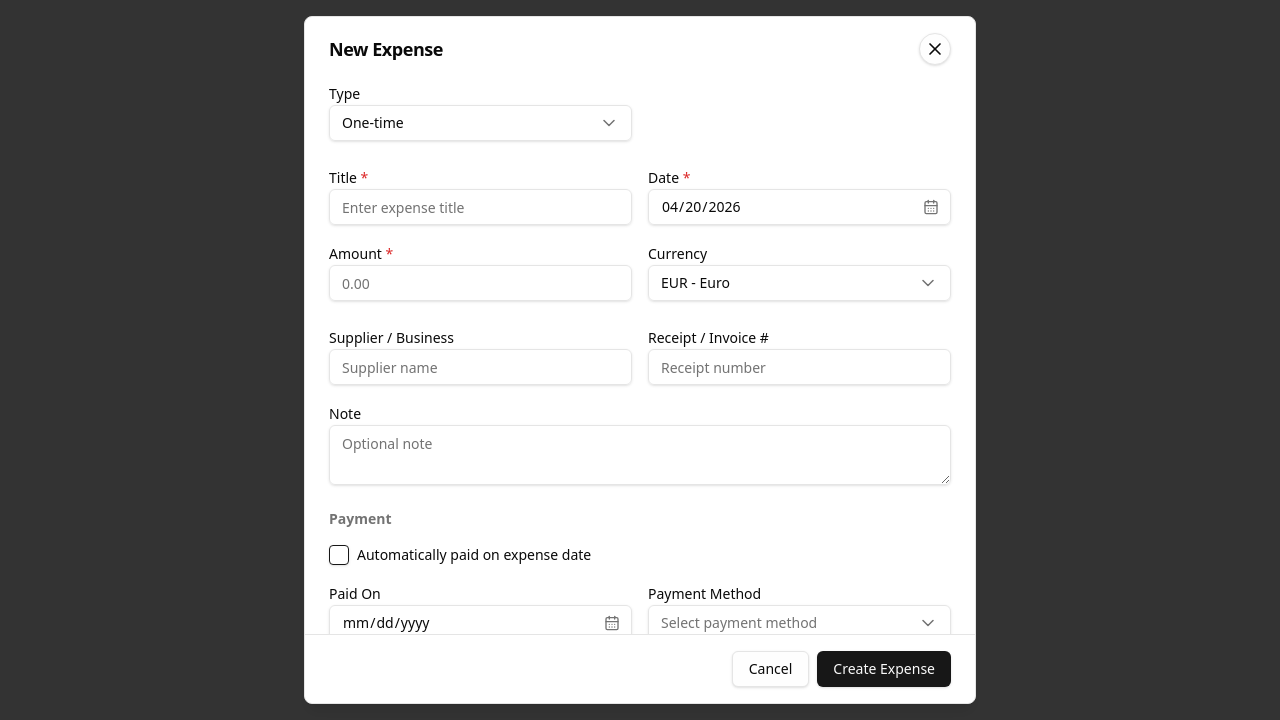
Scenario: ExpenseModal › keeps one-time auto-payment on and syncs paid on when the user explicitly enables it
This screenshot has width=1280, height=720.
Step 1. Click the checkbox named "Automatically paid on expense date" → point(339, 555), box [329,545,349,565]
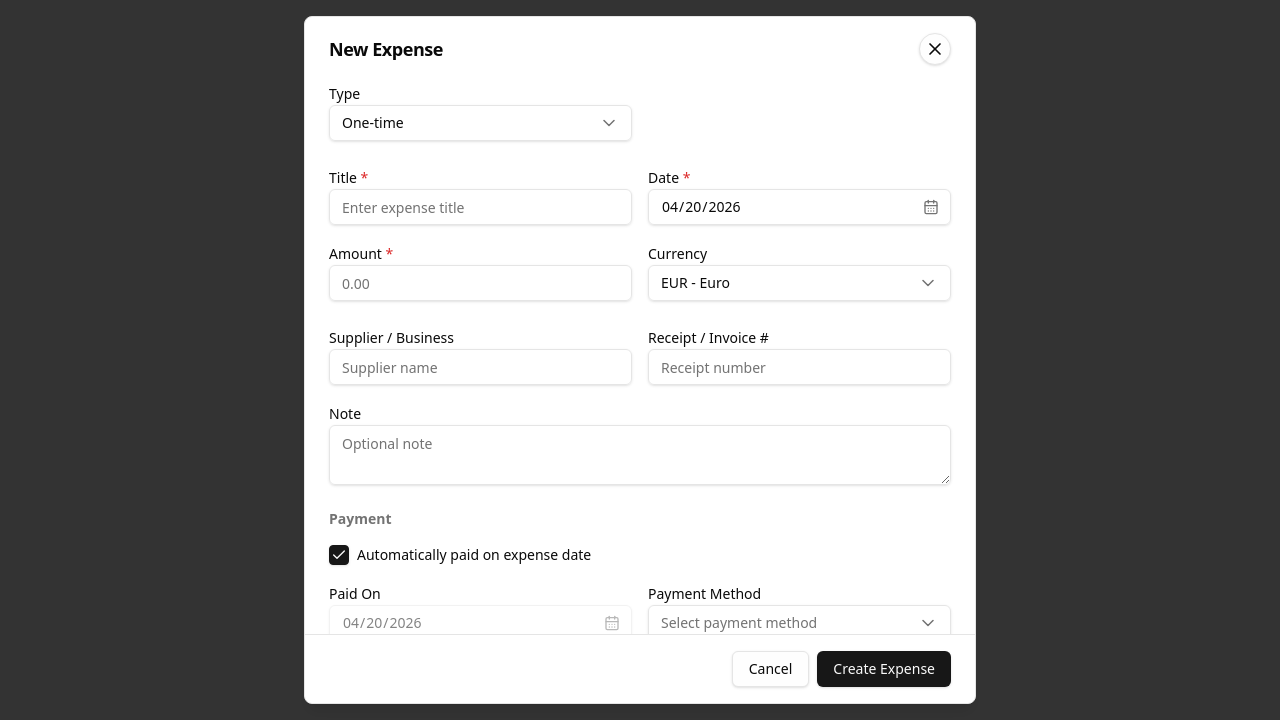
Check: the date field labelled "Paid On" holds "2026-04-20", box [329,605,632,634]
Check: the date field labelled "Paid On" is disabled, box [329,605,632,634]
Step 2. Type "2026-04-21" into the date field labelled "Date *" → point(800, 207), box [648,189,951,225]
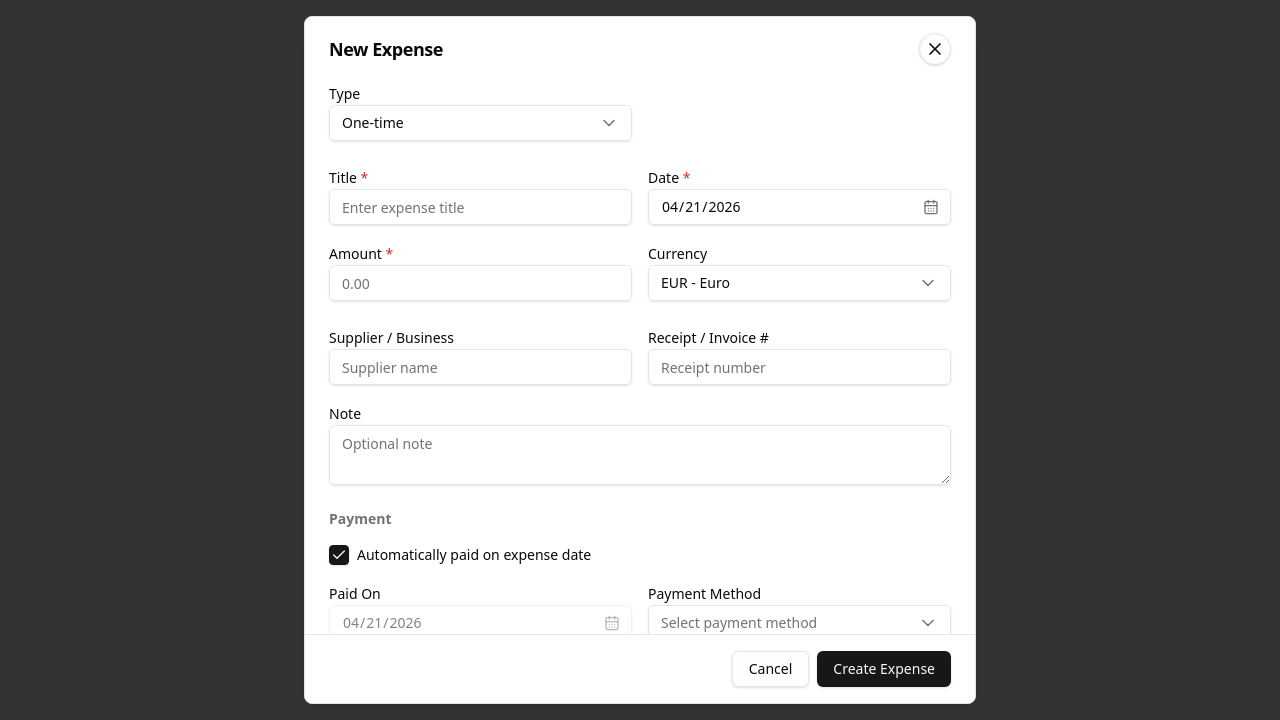
Check: the date field labelled "Paid On" is disabled, box [329,605,632,634]
Check: the date field labelled "Paid On" holds "2026-04-21", box [329,605,632,634]
